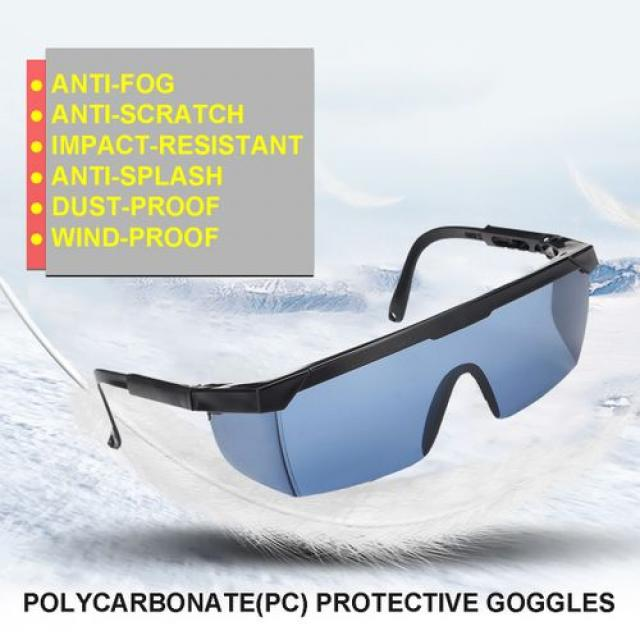Protective Glasses: (125, 258, 640, 528)
